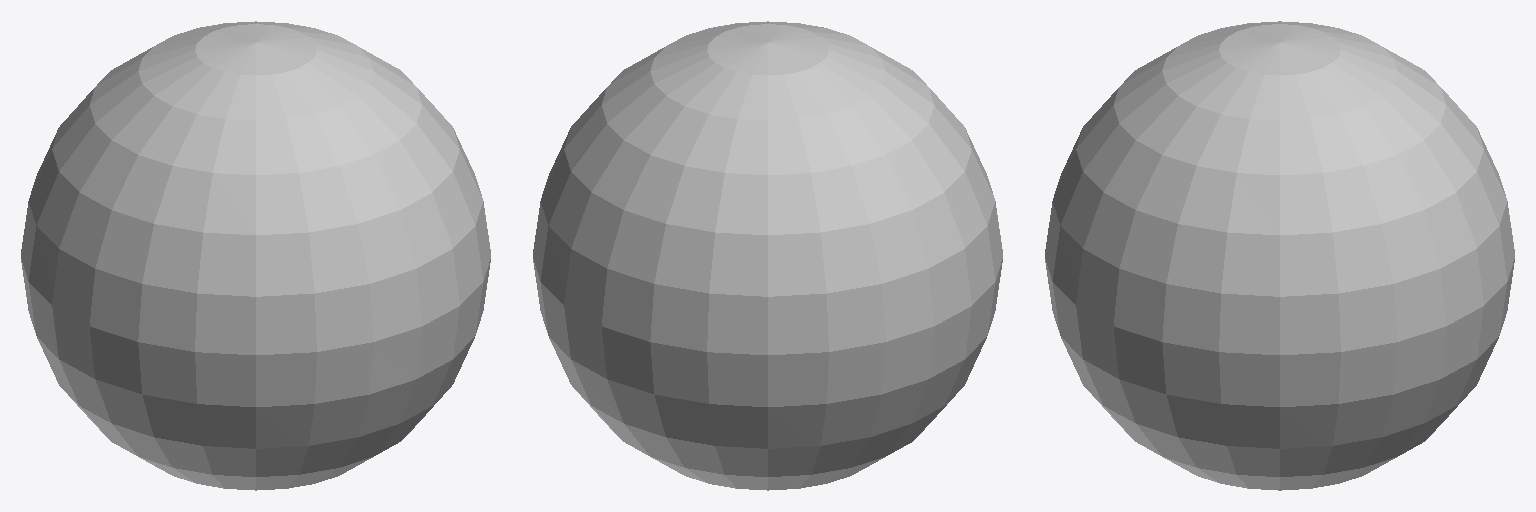
The model's file is Beachball.obj.
The picture shows the model from 3 angles: view 1: azimuth 30°, elevation 25°; view 2: azimuth 150°, elevation 25°; view 3: azimuth 270°, elevation 25°; orthographic projection.
Visible parts, largest first — view 1: Beachball; view 2: Beachball; view 3: Beachball.
Part boxes in pixels (left/top/right/bottom): Beachball: left=21, top=21, right=490, bottom=490; Beachball: left=533, top=21, right=1002, bottom=490; Beachball: left=1045, top=21, right=1514, bottom=490.
Size of the model in its own units: 0.36 by 0.36 by 0.36.